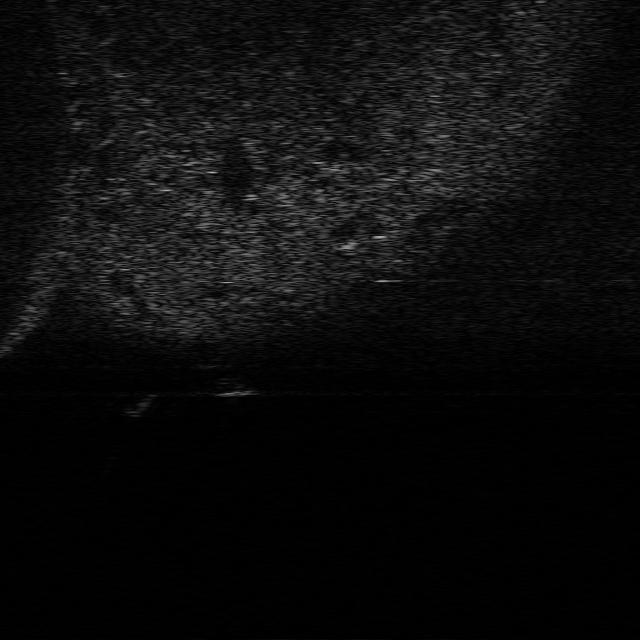cube: (206, 375, 258, 399)
cylinder: (126, 390, 158, 418)
